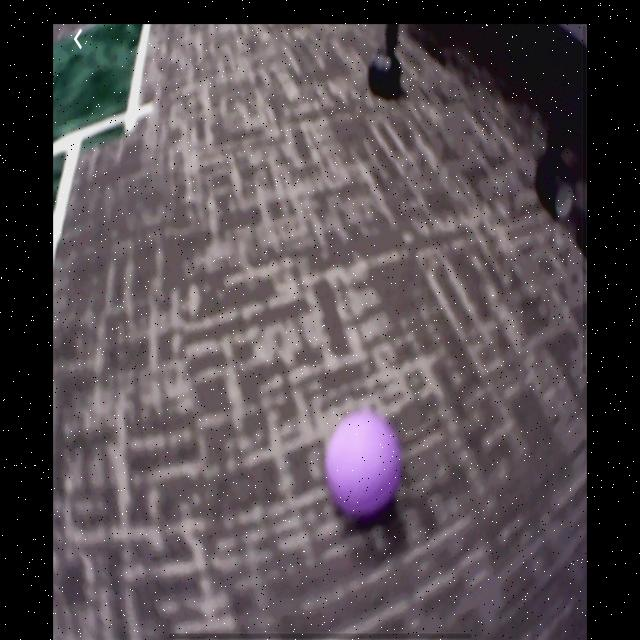ball: (325, 408, 403, 521)
